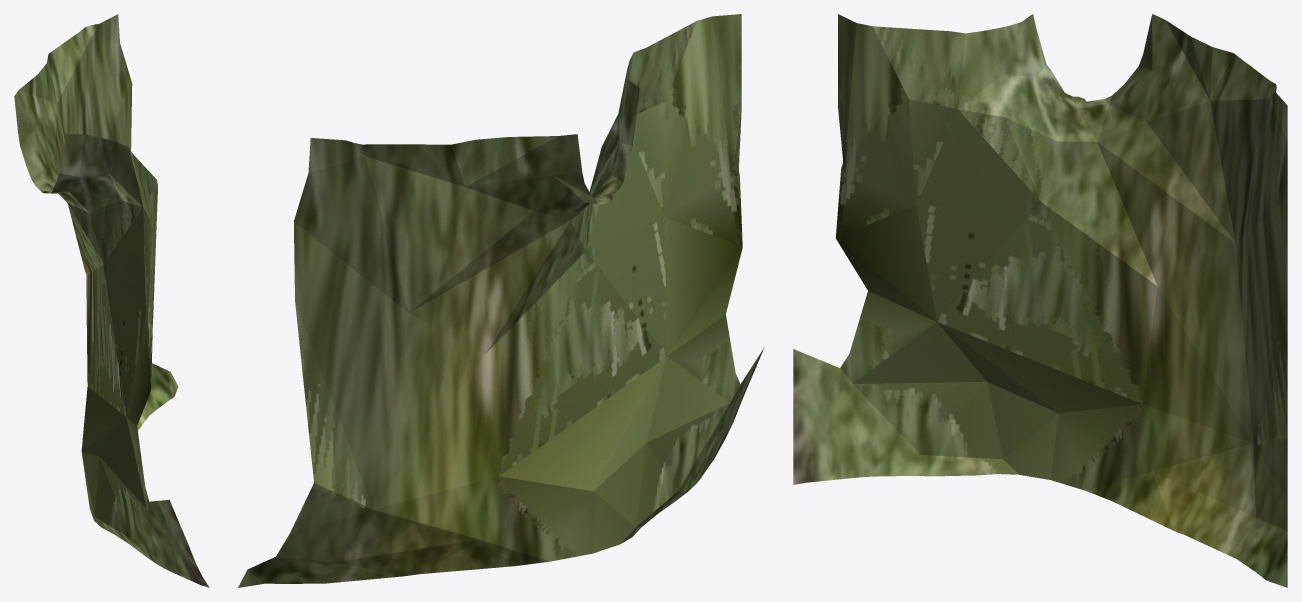
3 renders of one model, left to right at view 1: azimuth 30°, elevation 25°; view 2: azimuth 150°, elevation 25°; view 3: azimuth 270°, elevation 25°, orthographic. The views are drawn at different scales.
Bounding box in the file's own units: 1.77 × 2.95 × 2.95.
Materials: 3 (3 with a texture image).
